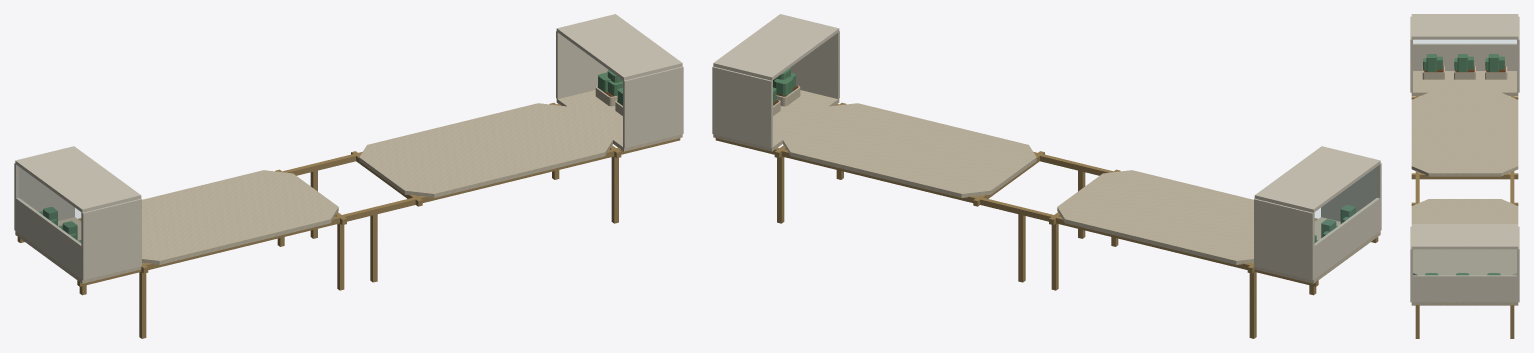
Rendered from D04_PORT_FORWARD_HOMES_THIRD_RECEIVING_r001.glb.
3 views of the same model, side by side, from view 1: azimuth 30°, elevation 25°; view 2: azimuth 150°, elevation 25°; view 3: azimuth 270°, elevation 25° (orthographic). The views are drawn at different scales.
Visible parts, largest first — view 1: D04H988_Floor, D04H976_Floor, D04HC3_west_Roof, D04HC3_east_Roof, D04HC3_east_End_1, D04HC3_west_End_1, D04HC3_west_PrivacyScreen, D04H3_SharedTransfer_1, D04HC3_east_End_0, D04HC3_west_GlassUpper, D04HC3_east_Floor, D04HC3_west_End_0 (+6 smaller); view 2: D04H988_Floor, D04H976_Floor, D04HC3_west_Roof, D04HC3_east_Roof, D04HC3_east_End_0, D04HC3_west_End_0, D04HC3_west_PrivacyScreen, D04H3_SharedTransfer_0, D04HC3_east_End_1, D04HC3_west_GlassUpper, D04HC3_east_Floor, D04HC3_west_End_1 (+6 smaller); view 3: D04H976_Floor, D04H988_Floor, D04HC3_east_PrivacyScreen, D04HC3_west_Roof, D04HC3_east_GlassUpper, D04HC3_east_Roof, D04HC3_west_PrivacyScreen, D04HC3_west_Floor, D04H976_Long_-46.349999999999994, D04HC3_east_Floor, D04HC3_west_GlassUpper, D04HC3_west_End_0 (+13 smaller).
Part boxes in pixels (left/top/right/bottom): D04H988_Floor: left=359, top=103, right=612, bottom=197; D04H976_Floor: left=142, top=170, right=338, bottom=264; D04HC3_west_Roof: left=15, top=146, right=141, bottom=212; D04HC3_east_Roof: left=556, top=14, right=682, bottom=80; D04HC3_east_End_1: left=623, top=66, right=683, bottom=148; D04HC3_west_End_1: left=81, top=198, right=141, bottom=280; D04HC3_west_PrivacyScreen: left=15, top=198, right=82, bottom=279; D04H3_SharedTransfer_1: left=77, top=138, right=680, bottom=286; D04HC3_east_End_0: left=556, top=31, right=608, bottom=99; D04HC3_west_GlassUpper: left=17, top=167, right=80, bottom=242; D04HC3_east_Floor: left=556, top=90, right=682, bottom=151; D04HC3_west_End_0: left=14, top=163, right=74, bottom=230; D04H988_Floor: left=783, top=103, right=1036, bottom=197; D04H976_Floor: left=1057, top=170, right=1253, bottom=264; D04HC3_west_Roof: left=1254, top=146, right=1380, bottom=212; D04HC3_east_Roof: left=713, top=14, right=839, bottom=80; D04HC3_east_End_0: left=712, top=66, right=772, bottom=148; D04HC3_west_End_0: left=1254, top=198, right=1314, bottom=280; D04HC3_west_PrivacyScreen: left=1313, top=198, right=1380, bottom=279; D04H3_SharedTransfer_0: left=715, top=138, right=1318, bottom=286; D04HC3_east_End_1: left=790, top=31, right=839, bottom=99; D04HC3_west_GlassUpper: left=1315, top=167, right=1376, bottom=243; D04HC3_east_Floor: left=713, top=90, right=839, bottom=151; D04HC3_west_End_1: left=1321, top=163, right=1381, bottom=230; D04H976_Floor: left=1411, top=92, right=1518, bottom=176; D04H988_Floor: left=1411, top=199, right=1518, bottom=275; D04HC3_east_PrivacyScreen: left=1411, top=275, right=1518, bottom=302; D04HC3_west_Roof: left=1411, top=14, right=1518, bottom=39; D04HC3_east_GlassUpper: left=1413, top=249, right=1516, bottom=275; D04HC3_east_Roof: left=1411, top=224, right=1518, bottom=249; D04HC3_west_PrivacyScreen: left=1413, top=43, right=1516, bottom=70; D04HC3_west_Floor: left=1411, top=71, right=1518, bottom=95; D04H976_Long_-46.349999999999994: left=1411, top=173, right=1518, bottom=179; D04HC3_east_Floor: left=1411, top=302, right=1518, bottom=305; D04HC3_west_GlassUpper: left=1413, top=40, right=1516, bottom=43; D04HC3_west_End_0: left=1517, top=16, right=1519, bottom=92.
Bounding box in the file's own units: 37.2 × 8.66 × 7.38.
Materials: 6 (4 with a texture image).
